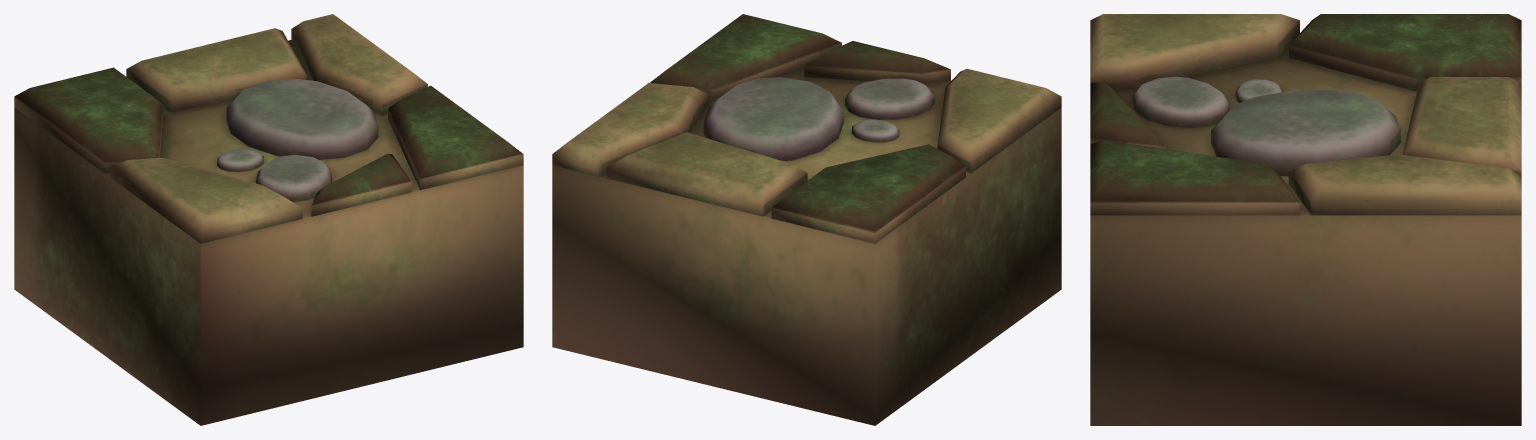
Rendered from Ground04.fbx.
The picture shows the model from 3 angles, left to right: view 1: azimuth 30°, elevation 25°; view 2: azimuth 150°, elevation 25°; view 3: azimuth 270°, elevation 25°; orthographic projection. The views are drawn at different scales.
Visible parts, largest first — view 1: Cube.122; view 2: Cube.122; view 3: Cube.122.
Boxes of the visible parts, box(x1,y1,x2,y2) form: Cube.122: box(14, 14, 523, 425); Cube.122: box(552, 14, 1061, 425); Cube.122: box(1090, 14, 1521, 425).
Size of the model in its own units: 4 by 2.41 by 4.
